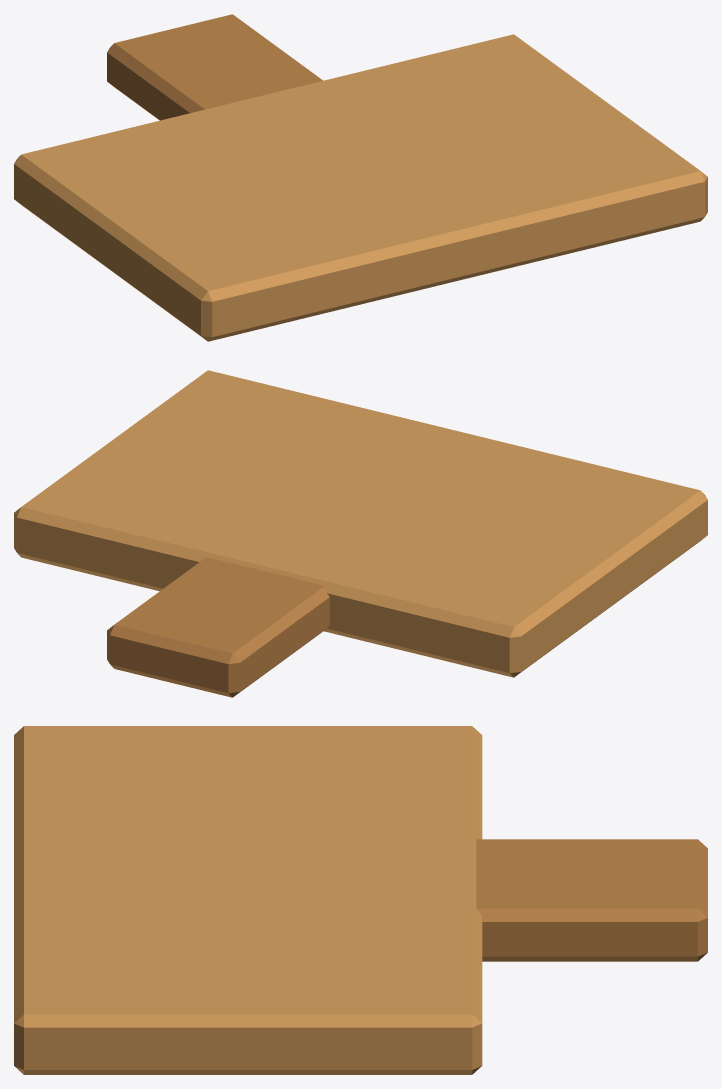
Rendered from cutting_board.glb.
The picture shows the model from 3 angles, top to bottom: view 1: azimuth 30°, elevation 25°; view 2: azimuth 150°, elevation 25°; view 3: azimuth 270°, elevation 25°; orthographic projection. The views are drawn at different scales.
Visible parts, largest first — view 1: cutting_board__body__wood3, cutting_board__body__wood2; view 2: cutting_board__body__wood3, cutting_board__body__wood2; view 3: cutting_board__body__wood3, cutting_board__body__wood2.
Part boxes in pixels (bbox=[...]): cutting_board__body__wood3: bbox=[14, 34, 707, 341]; cutting_board__body__wood2: bbox=[107, 14, 322, 120]; cutting_board__body__wood3: bbox=[14, 370, 707, 677]; cutting_board__body__wood2: bbox=[107, 557, 329, 697]; cutting_board__body__wood3: bbox=[14, 726, 482, 1074]; cutting_board__body__wood2: bbox=[476, 839, 707, 961].
Bounding box in the file's own units: 0.42 × 0.04 × 0.415.
